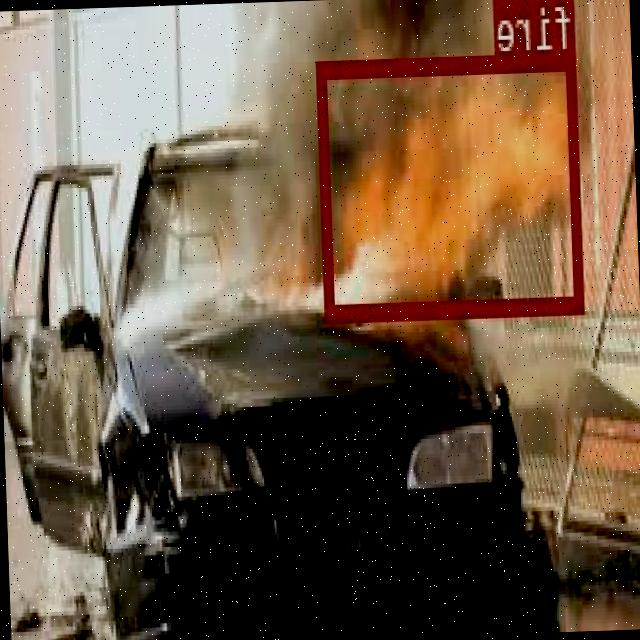fire: (318, 52, 586, 317)
